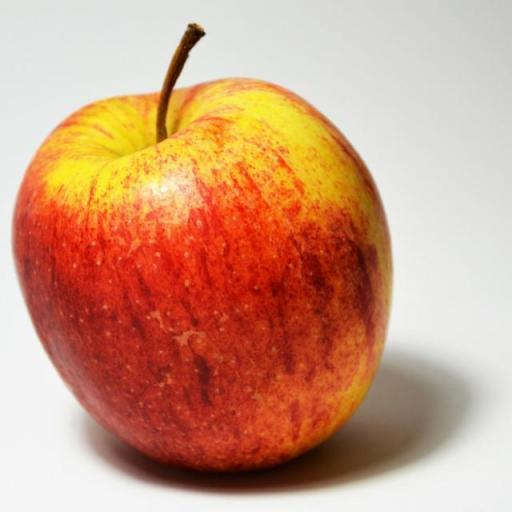fruit: (13, 79, 390, 469), (166, 25, 199, 96)
